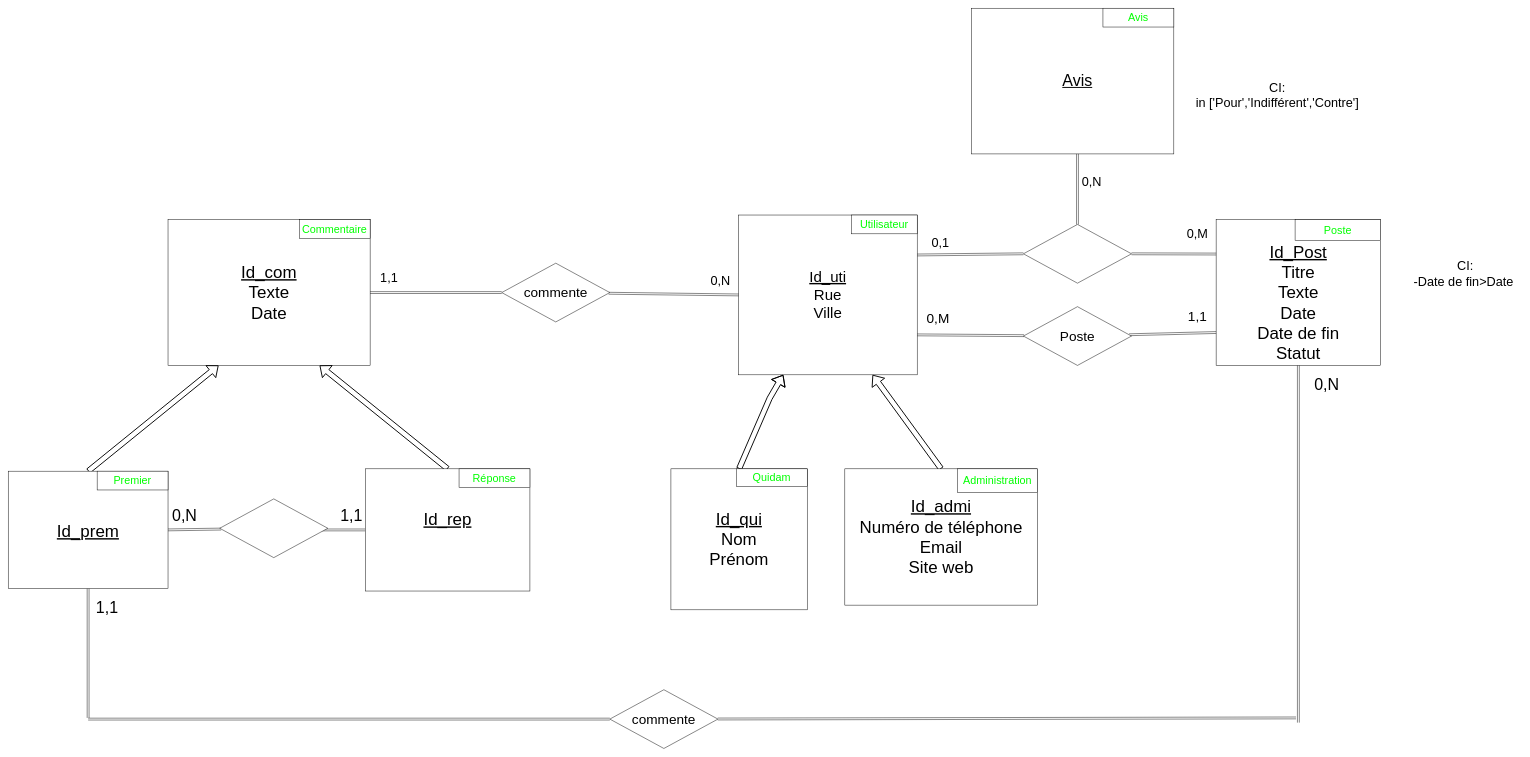
This 1530x757 diagram has some shape labels left out. Each missing label, with the centre of its shape:
"Donne avis" belongs at point (1077, 253).
"Répond" belongs at point (273, 528).
